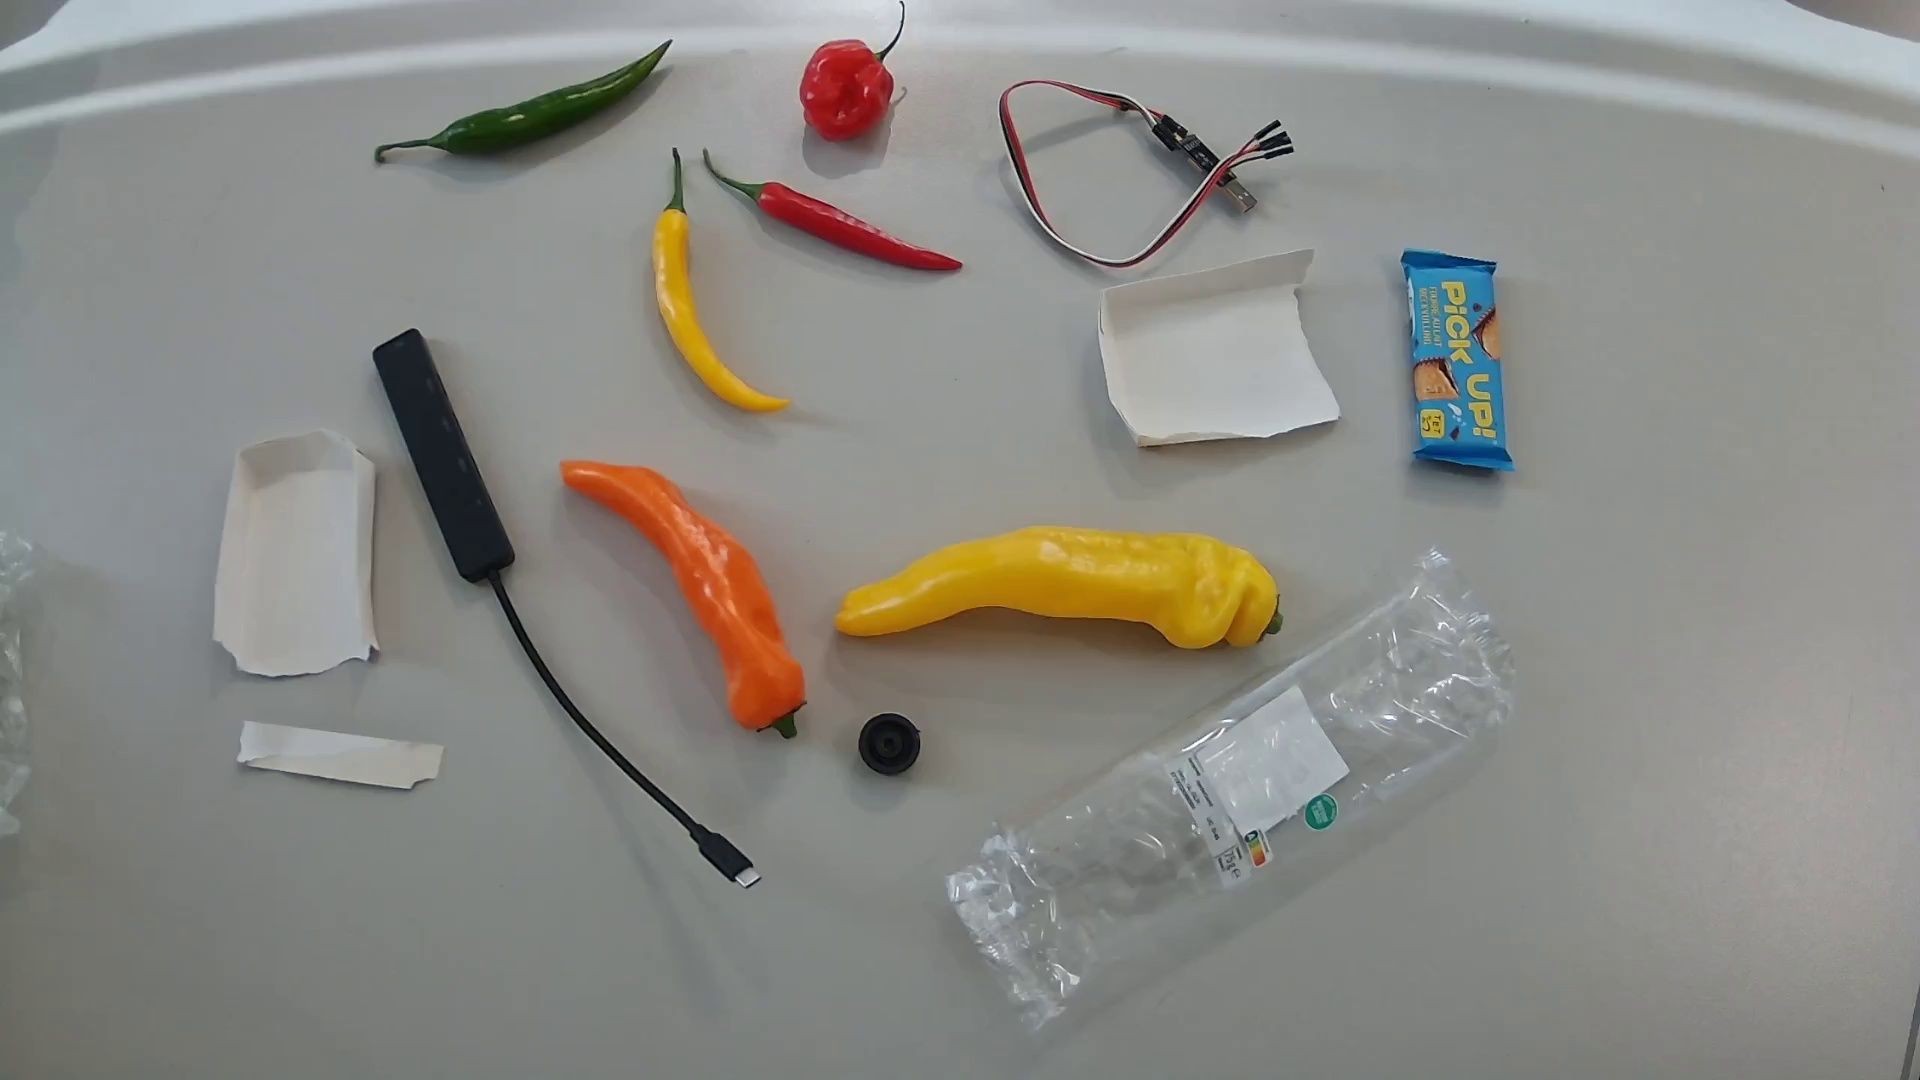Habanero_Pepper_Red: (774, 1, 942, 149)
Pick_up: (1390, 223, 1530, 491)
Spanish_Pepper_Green: (355, 30, 683, 174)
Spanish_Pepper_Red: (691, 128, 978, 281)
Spanish_Pepper_Yellow: (633, 117, 806, 427)
Sweet_Pepper_Orange: (539, 438, 822, 756)
Sweet_Pepper_Yellow: (827, 514, 1284, 670)
